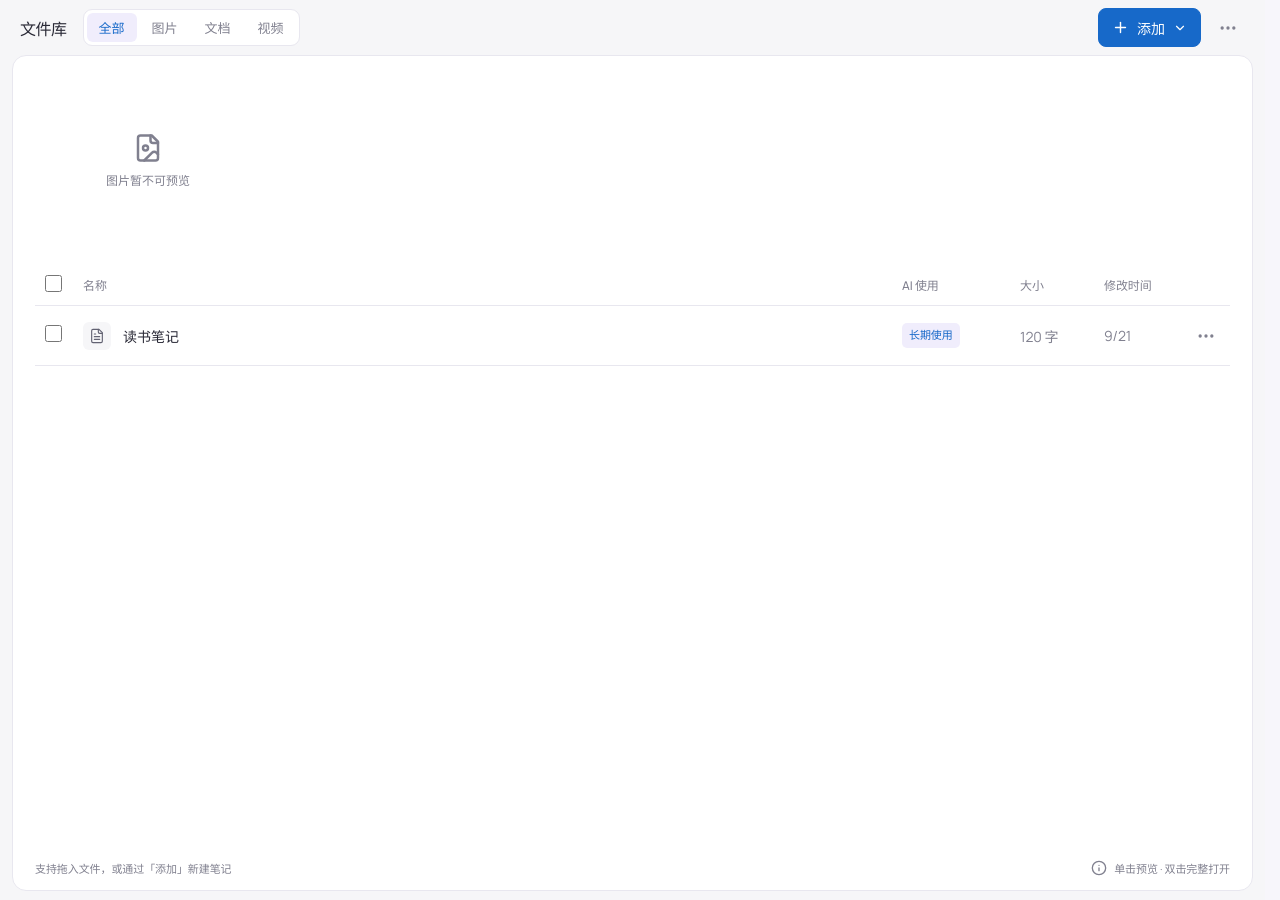
it: file library › hides text-use controls in media libraries without applying a hidden filter
Click the button named "文件库更多选项".
click(1228, 28)  # box top-left (1211, 10), bottom-right (1245, 44)
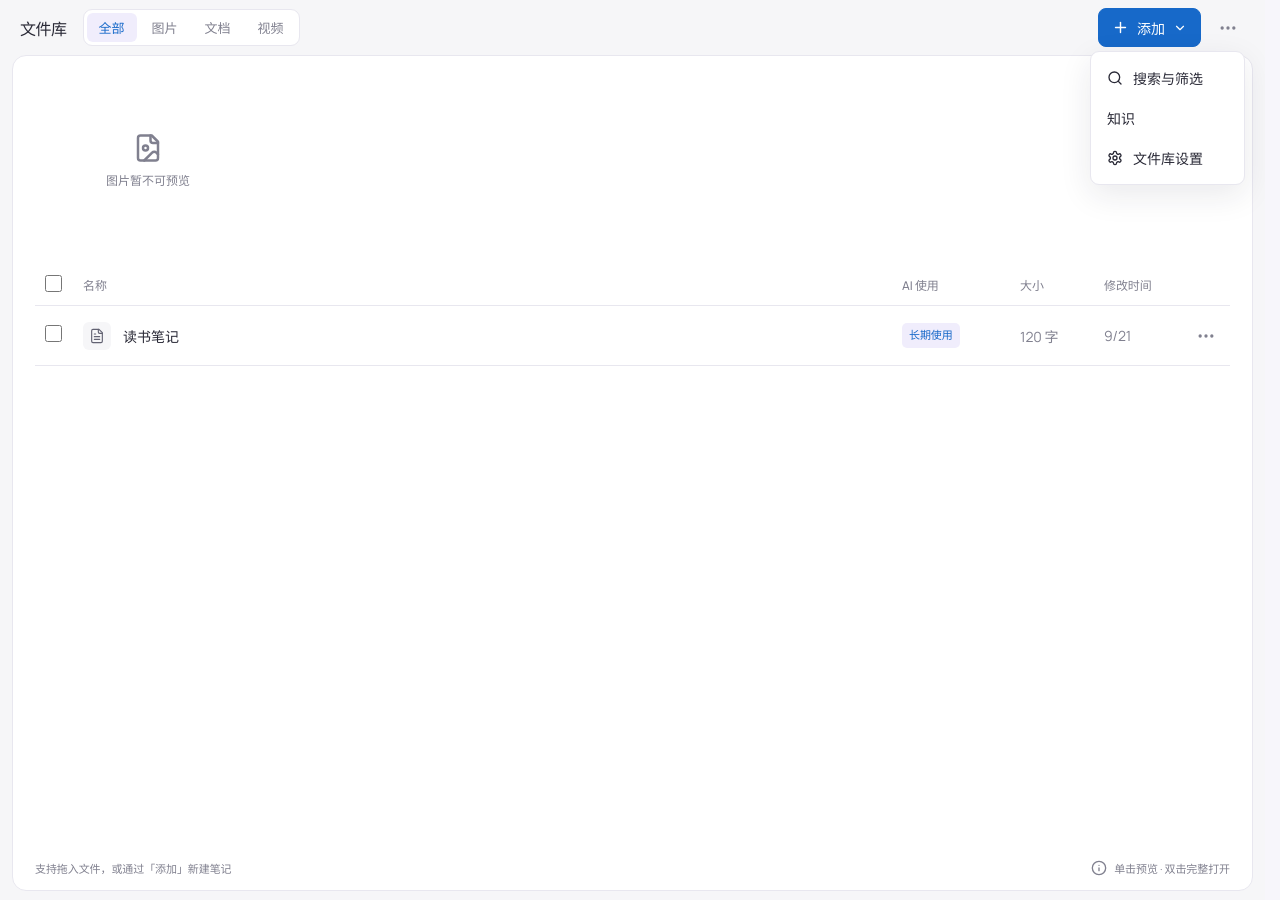
Click the button "搜索与筛选".
click(1168, 78)  # box top-left (1097, 58), bottom-right (1238, 98)
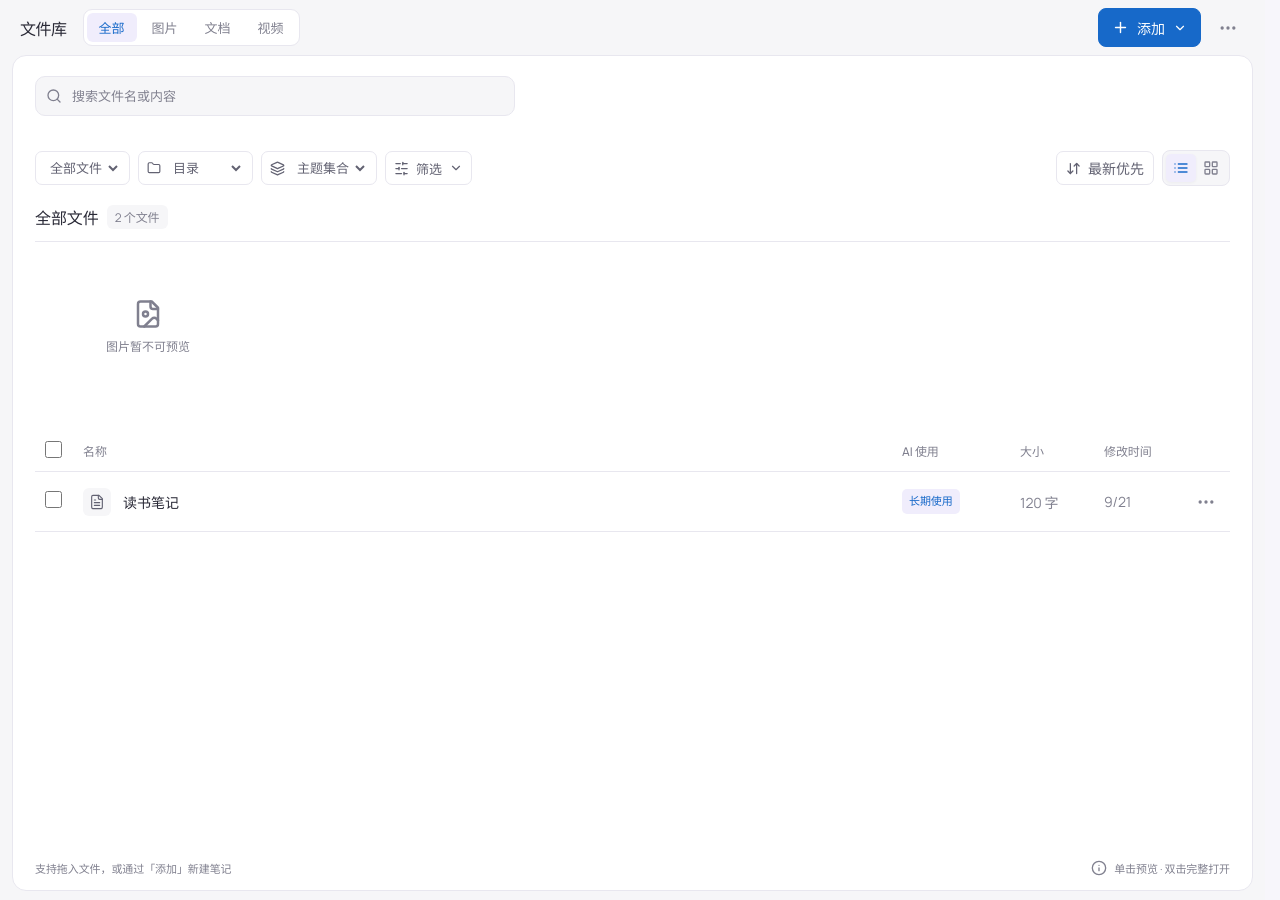
Click the button "筛选".
click(428, 168)  # box top-left (385, 151), bottom-right (472, 185)
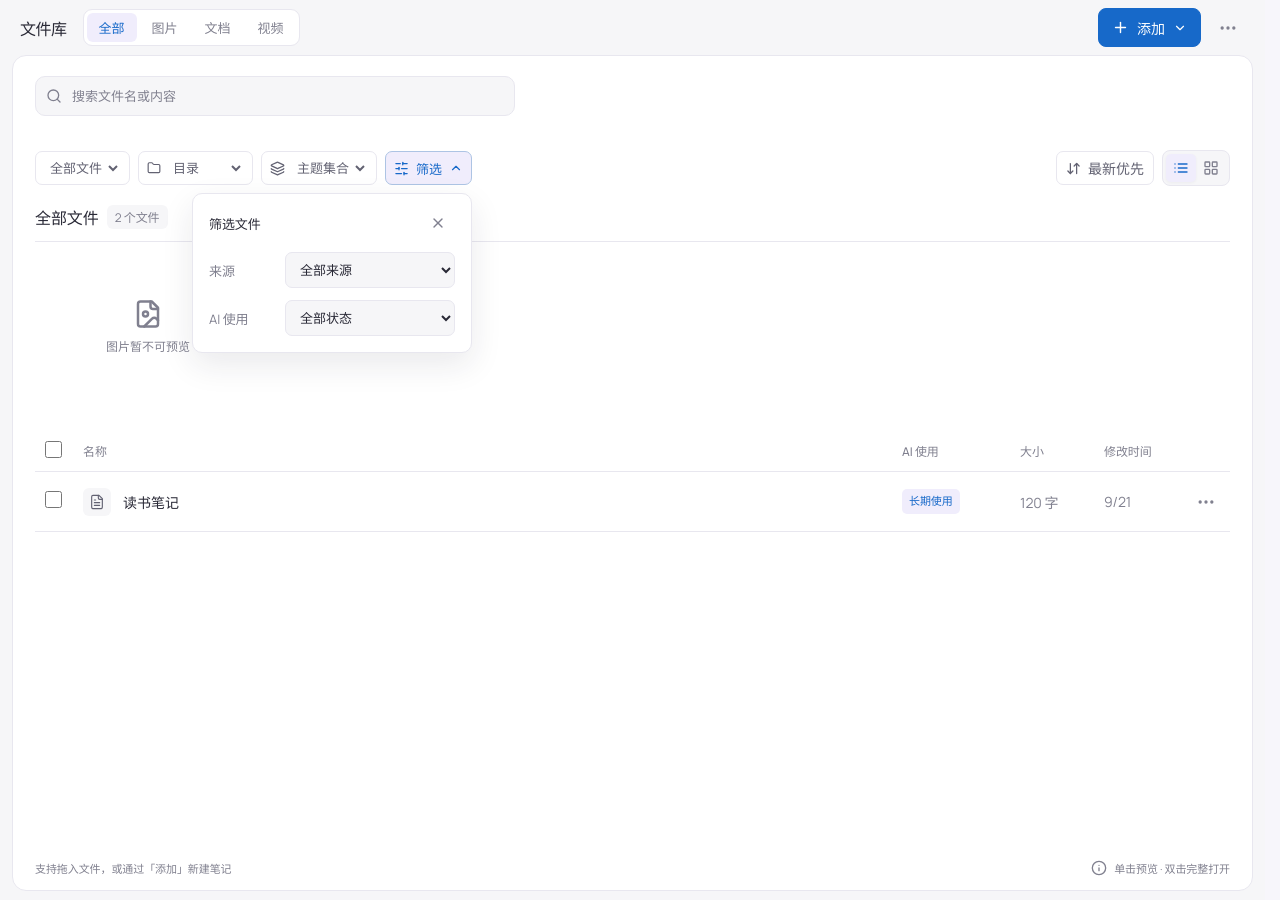
Select "长期使用" in the dropdown named "筛选 AI 使用" at (370, 318), box top-left (285, 300), bottom-right (455, 336)
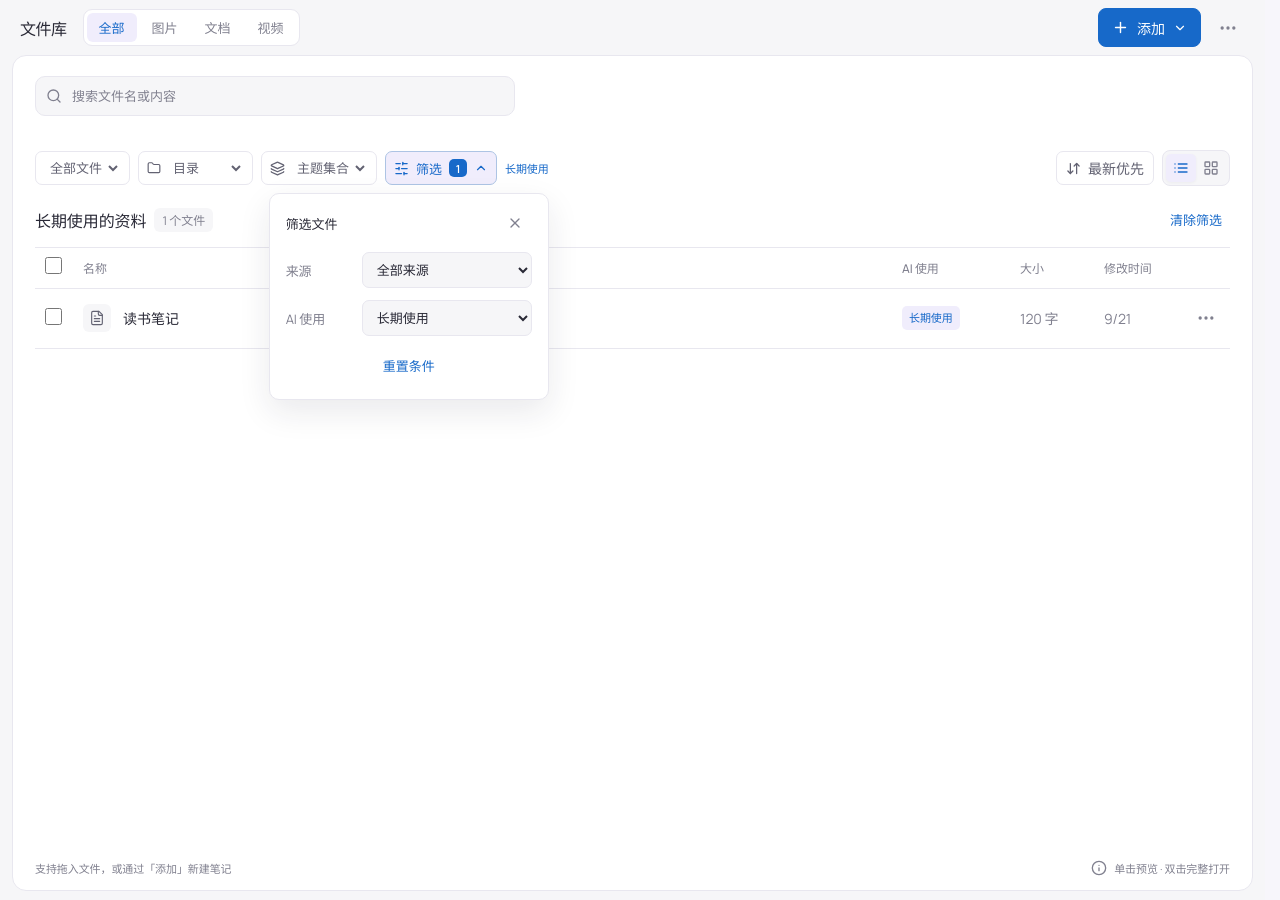
Click the button "图片".
click(165, 28)  # box top-left (140, 13), bottom-right (190, 42)
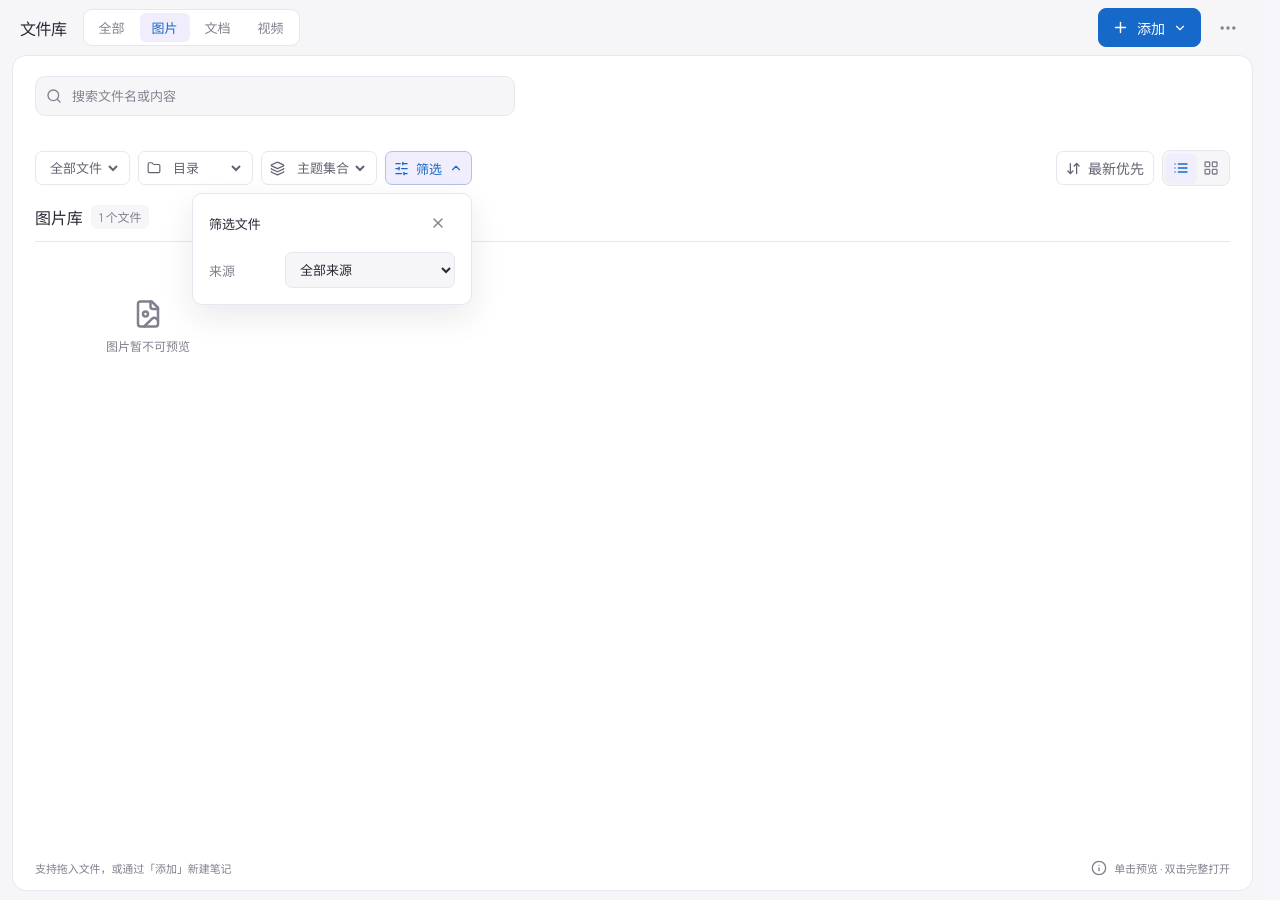
Expected: the label "AI 使用" is gone
Expected: the button with aria-label "预览 照片" is shown, top-left (35, 242), bottom-right (261, 412)
Click the button "文档".
click(218, 28)  # box top-left (193, 13), bottom-right (243, 42)
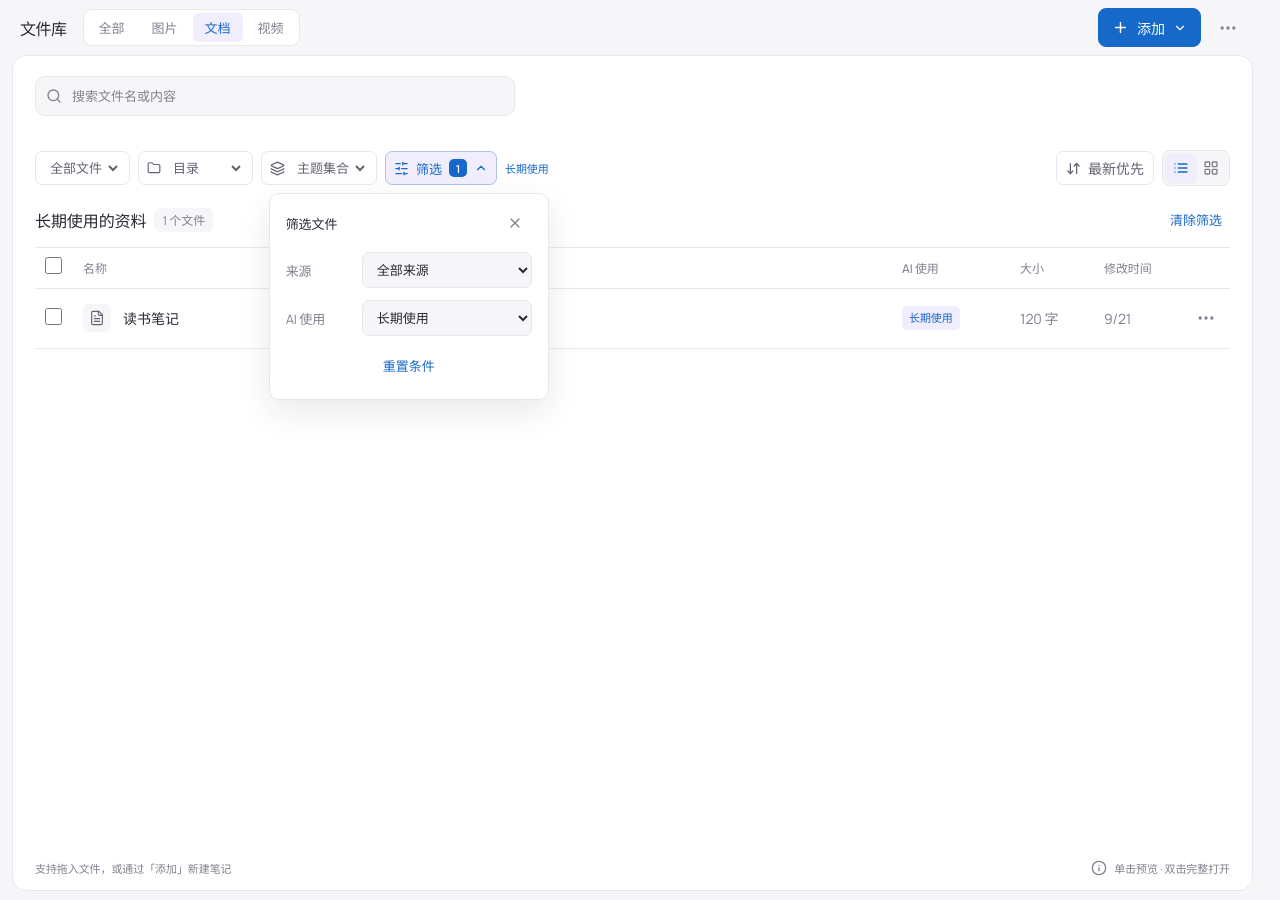
Expected: the column heading "AI 使用" is shown, top-left (892, 248), bottom-right (1010, 288)
Expected: the dropdown named "筛选 AI 使用" shows "长期使用", top-left (362, 300), bottom-right (532, 336)
